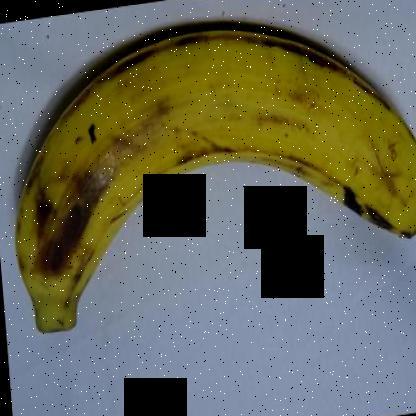overripe: (1, 18, 415, 344)
